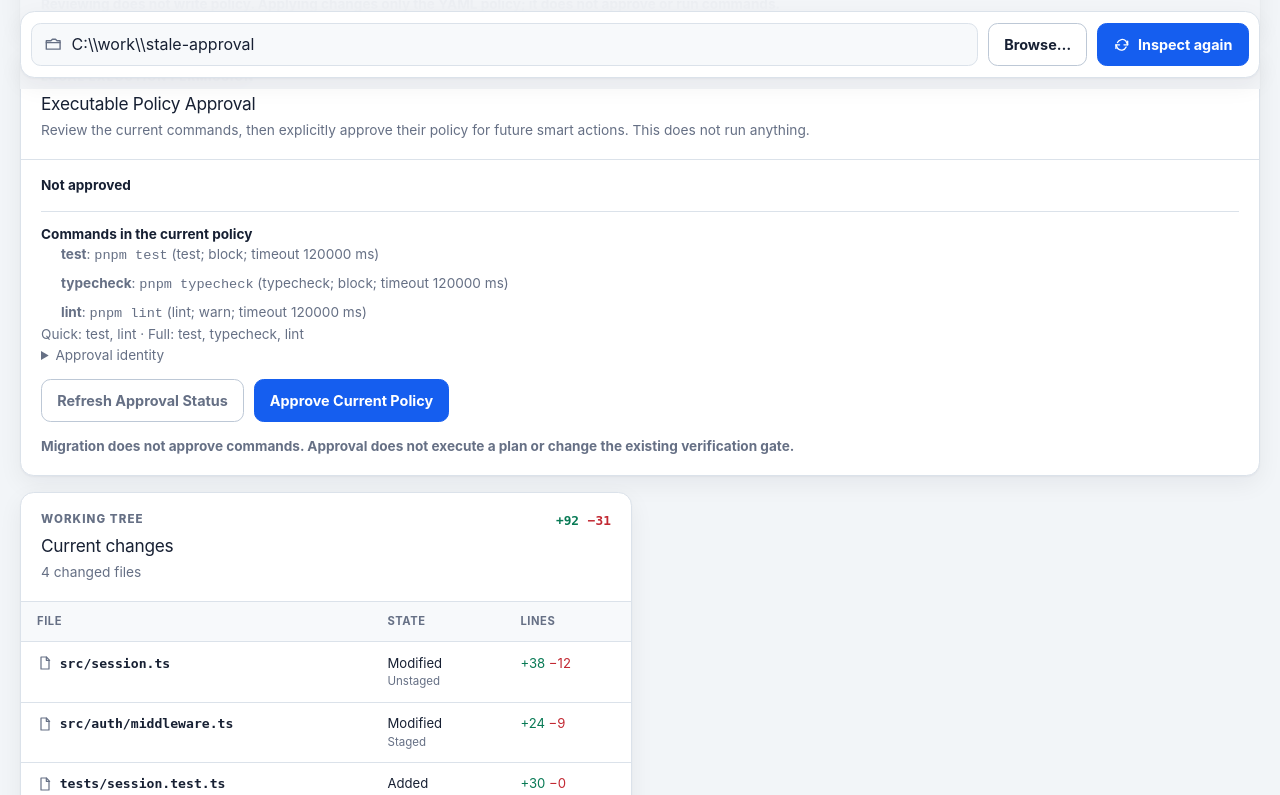
desktop dashboard › does not claim approval when the reviewed digest becomes stale
(page scrolled)
Expected: the text "Not approved" is shown, [41,176,131,192]
Click the button "Approve Current Policy" at (351, 401), box [254,379,449,422]
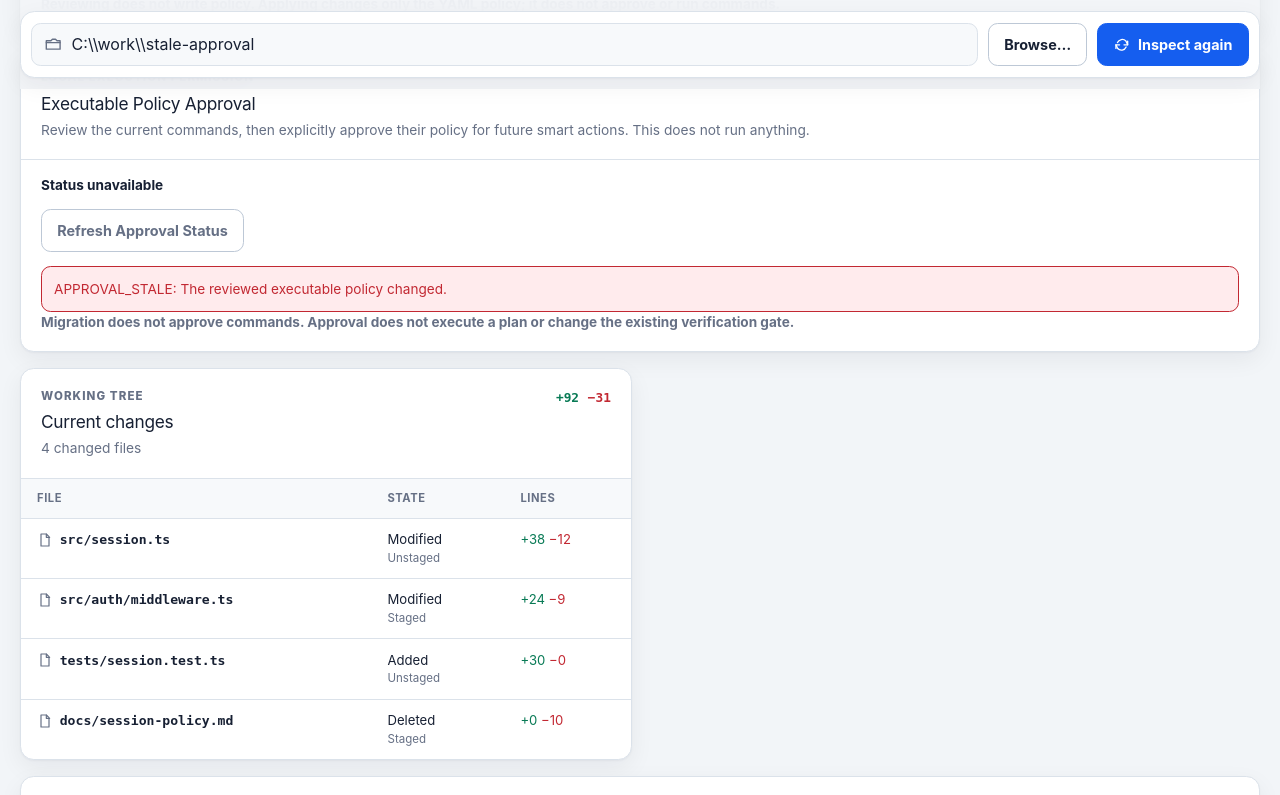
Expected: the text "Approved" is not shown
Expected: the message "APPROVAL_STALE: The reviewed executable policy changed." is shown, [41,266,1239,312]
Expected: the button "Approve Current Policy" is gone
Click the button "Refresh Approval Status" at (142, 230), box [41,209,244,252]
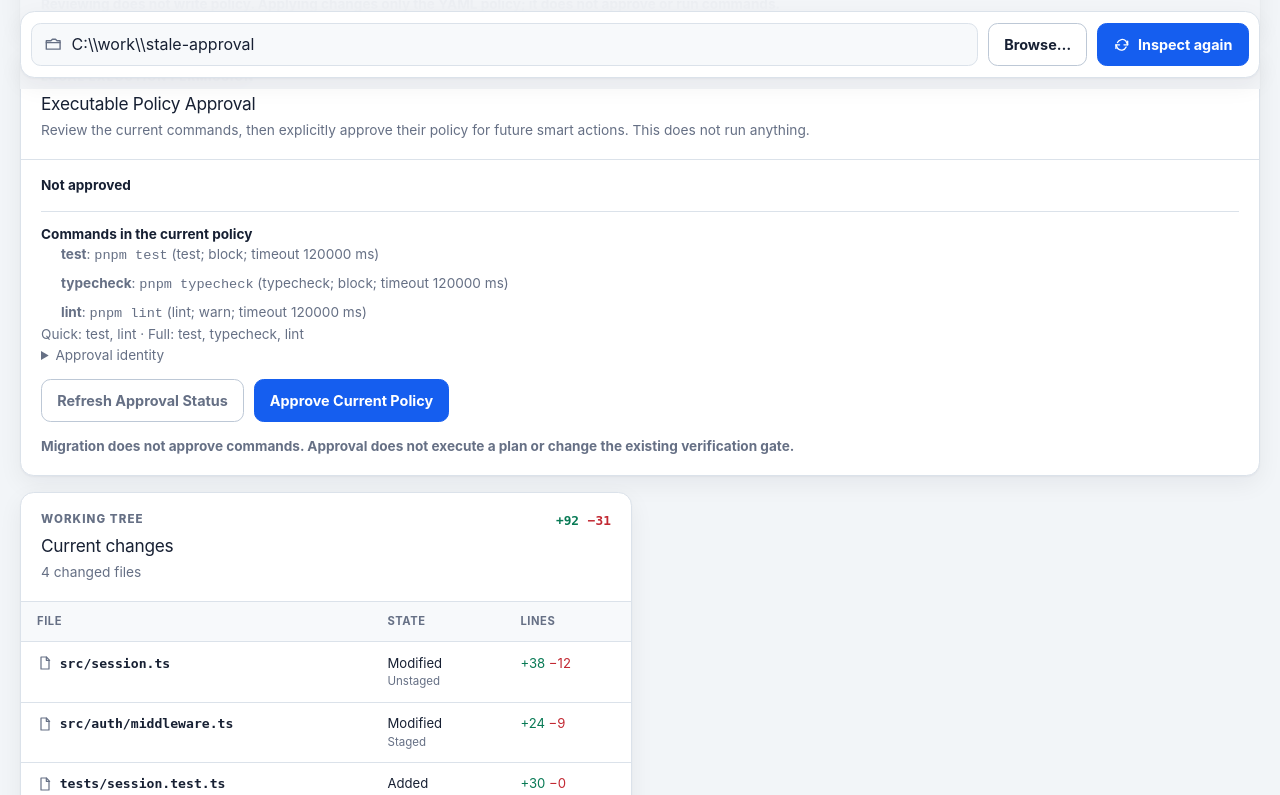
Expected: the text "Not approved" is shown, [41,176,131,192]
